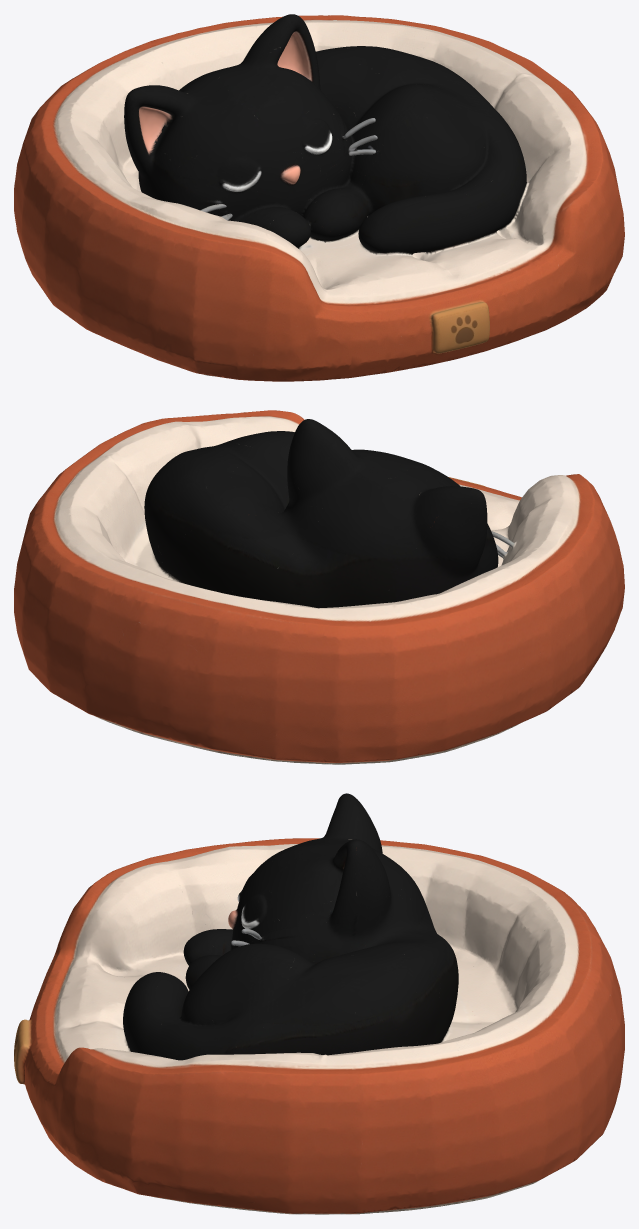
Rendered from black-catnap-original.glb.
The picture shows the model from 3 angles, top to bottom: view 1: azimuth 30°, elevation 25°; view 2: azimuth 150°, elevation 25°; view 3: azimuth 270°, elevation 25°; orthographic projection. The views are drawn at different scales.
Bounding box in the file's own units: 1.9 × 0.8749 × 1.9.
Materials: 1 (1 with a texture image).
